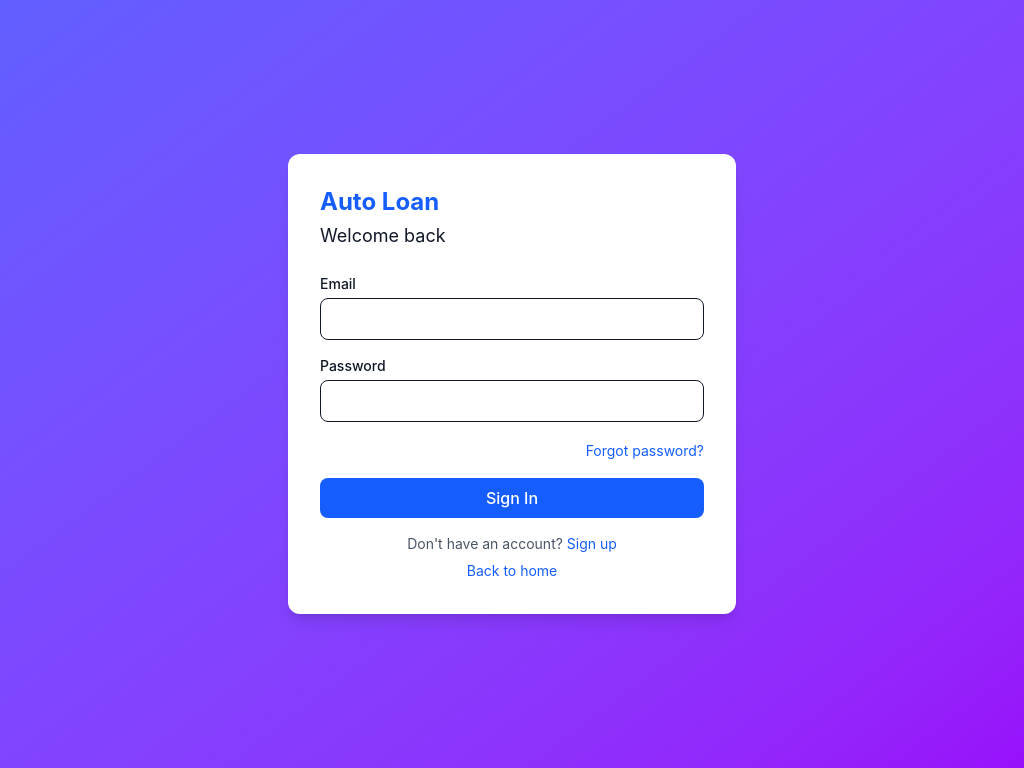
it: LoginPage › handles non-Error throw
This screenshot has width=1024, height=768.
In the field labelled "Email": (512, 319) [320, 298, 704, 340], type "a@b.com"
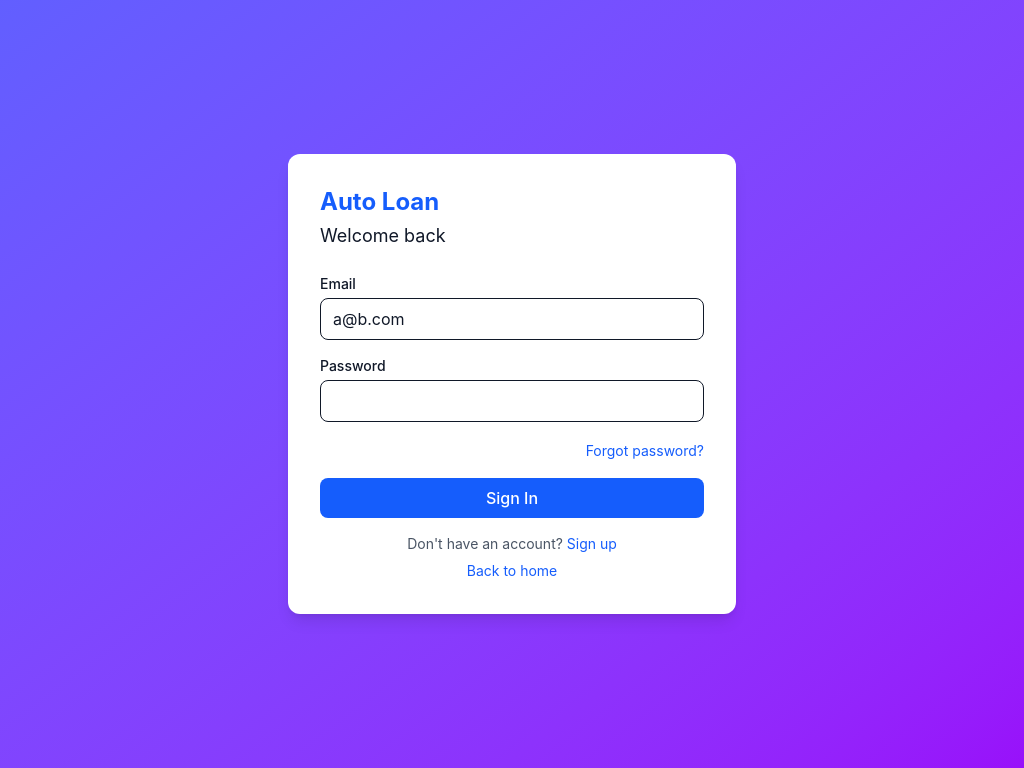
In the password field labelled "Password": (512, 401) [320, 380, 704, 422], type "x"
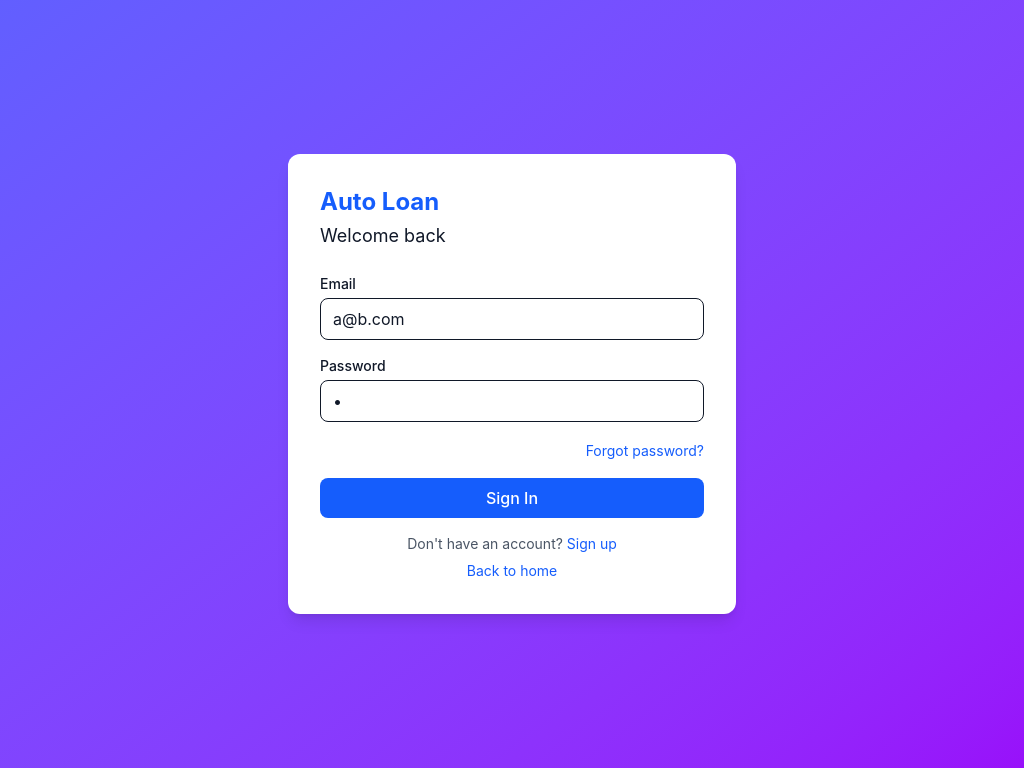
Click the button "Sign In": (512, 498) [320, 478, 704, 518]
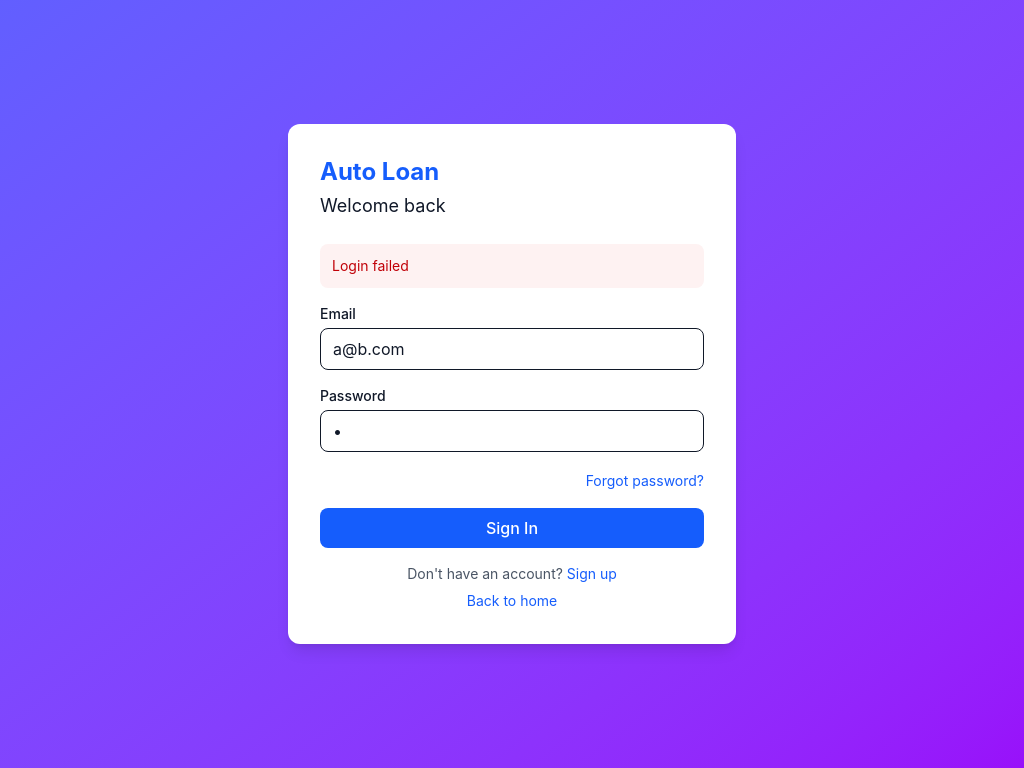
Result: the message reads "Login failed" at [332, 257, 409, 274]
